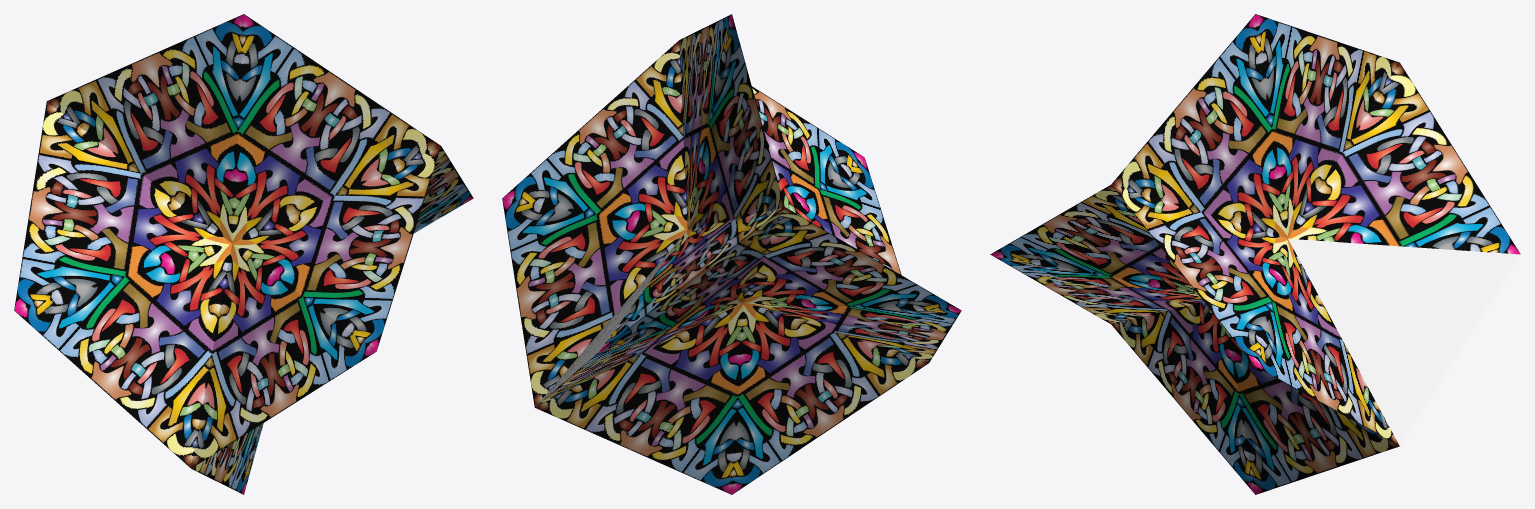
The model's file is 33Mobius24.obj.
3 renders of one model, left to right at view 1: azimuth 30°, elevation 25°; view 2: azimuth 150°, elevation 25°; view 3: azimuth 270°, elevation 25°, orthographic.
Bounding box in the file's own units: 2.24 × 2.24 × 2.24.
